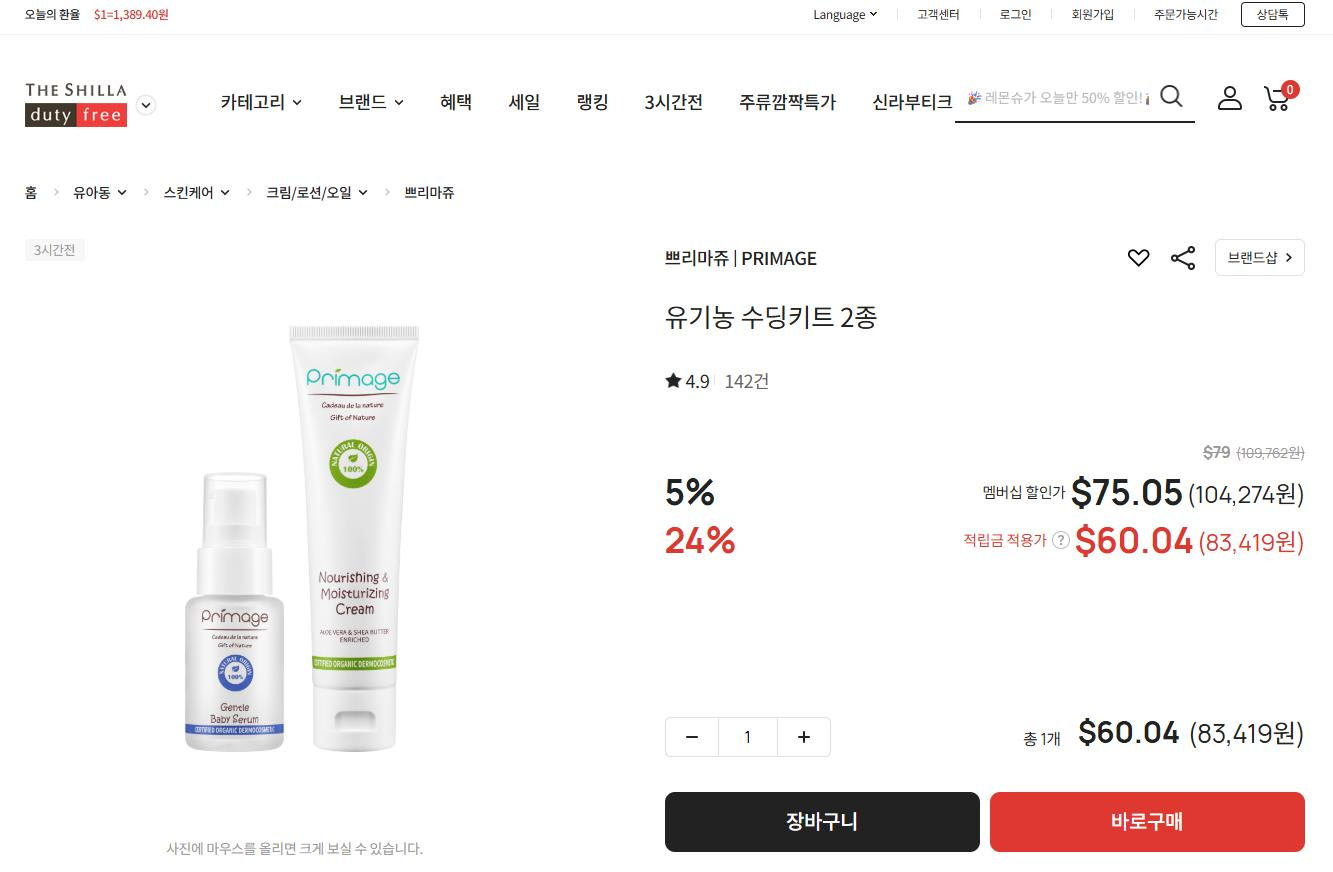button: (669, 791, 990, 854), (998, 791, 1312, 855), (1214, 244, 1305, 278), (739, 90, 833, 118), (868, 91, 961, 119), (1150, 6, 1226, 34), (1241, 6, 1315, 34), (644, 91, 708, 119), (400, 181, 457, 209), (564, 91, 628, 115), (1261, 84, 1300, 118), (1078, 6, 1124, 34), (1000, 6, 1046, 34), (925, 6, 971, 34), (503, 91, 549, 119), (433, 94, 479, 121), (1214, 85, 1245, 118), (1126, 242, 1154, 270), (1172, 249, 1192, 274), (26, 181, 43, 209)
checkbox: (264, 179, 372, 209), (204, 91, 311, 121), (331, 88, 410, 118), (162, 176, 234, 206), (815, 6, 891, 34), (70, 179, 139, 209)
input_field: (969, 85, 1205, 126)
